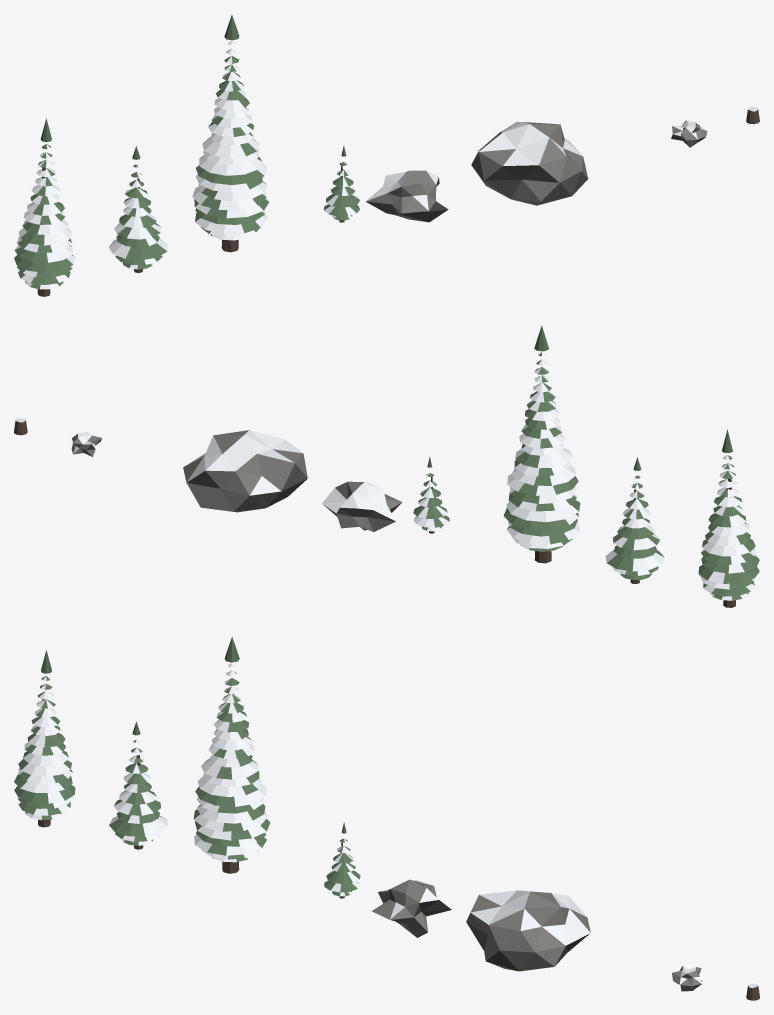
Rendered from vegetation.glb.
3 views of the same model, one above another, from view 1: azimuth 30°, elevation 25°; view 2: azimuth 150°, elevation 25°; view 3: azimuth 330°, elevation 25° (orthographic).
Parts seen in each view (by area): view 1: tree_spruce_c, rock_b, tree_spruce_a, tree_spruce_b, rock_a, tree_spruce_d, rock_c; view 2: tree_spruce_c, rock_b, tree_spruce_a, tree_spruce_b, rock_a, tree_spruce_d, rock_c; view 3: tree_spruce_c, rock_b, tree_spruce_a, tree_spruce_b, rock_a, tree_spruce_d.
Boxes of the visible parts, x1,y1,x2,y2 form: tree_spruce_c: [192, 15, 269, 252]; rock_b: [471, 121, 588, 205]; tree_spruce_a: [14, 118, 75, 296]; tree_spruce_b: [108, 146, 167, 272]; rock_a: [366, 170, 448, 222]; tree_spruce_d: [323, 145, 359, 222]; rock_c: [671, 120, 707, 147]; tree_spruce_c: [503, 325, 580, 563]; rock_b: [183, 430, 307, 512]; tree_spruce_a: [698, 429, 759, 607]; tree_spruce_b: [605, 457, 664, 583]; rock_a: [322, 481, 402, 531]; tree_spruce_d: [413, 456, 449, 533]; rock_c: [71, 431, 101, 456]; tree_spruce_c: [193, 636, 270, 873]; rock_b: [466, 890, 590, 971]; tree_spruce_a: [14, 650, 75, 827]; tree_spruce_b: [109, 721, 168, 849]; rock_a: [372, 879, 451, 937]; tree_spruce_d: [324, 822, 360, 898].
Bounding box in the file's own units: 53.49 × 17.41 × 7.17.
